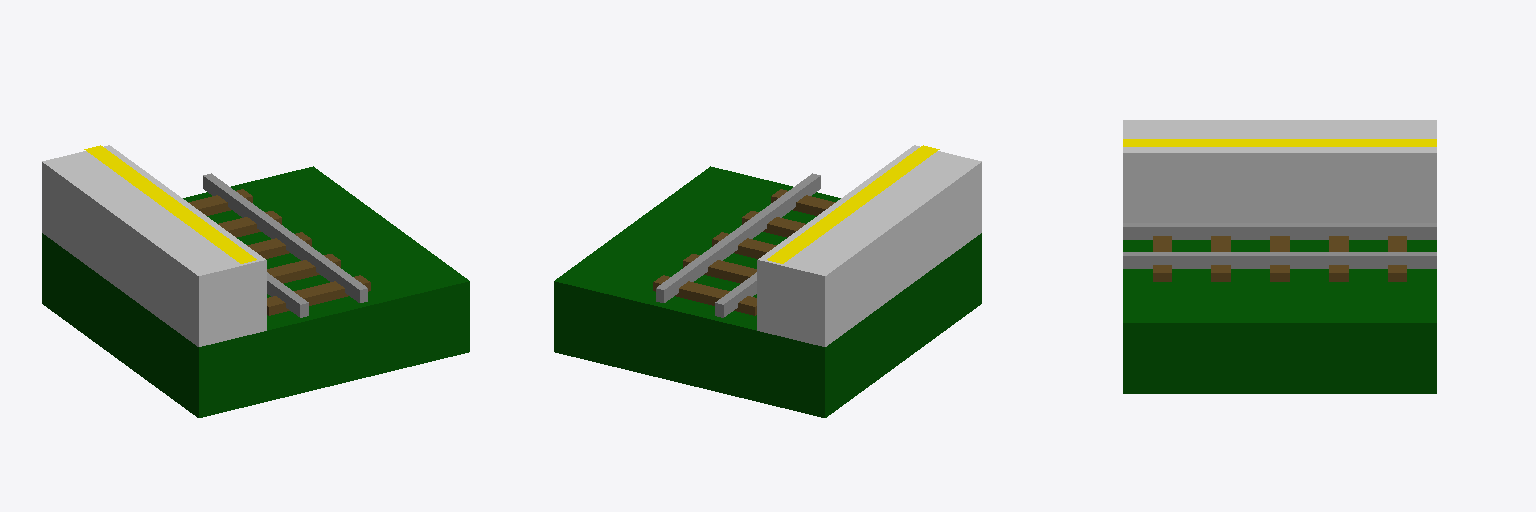
3 views of the same model, side by side, from view 1: azimuth 30°, elevation 25°; view 2: azimuth 150°, elevation 25°; view 3: azimuth 270°, elevation 25° (orthographic).
Visible parts, largest first — view 1: grass, beton, rail, wood, plane; view 2: grass, beton, rail, wood, plane; view 3: grass, beton, rail, wood, plane.
Boxes of the visible parts, x1,y1,x2,y2 form: grass: [42, 166, 469, 417]; beton: [42, 145, 266, 346]; rail: [203, 173, 367, 317]; wood: [188, 189, 370, 315]; plane: [84, 145, 256, 263]; grass: [554, 166, 981, 417]; beton: [757, 145, 981, 346]; rail: [656, 173, 820, 317]; wood: [653, 189, 835, 315]; plane: [767, 145, 939, 263]; grass: [1123, 240, 1436, 393]; beton: [1123, 120, 1436, 222]; rail: [1123, 223, 1436, 268]; wood: [1153, 236, 1406, 281]; plane: [1123, 139, 1436, 146].
Bounding box in the file's own units: 1 × 0.5063 × 1.
5 materials, 5 textured.